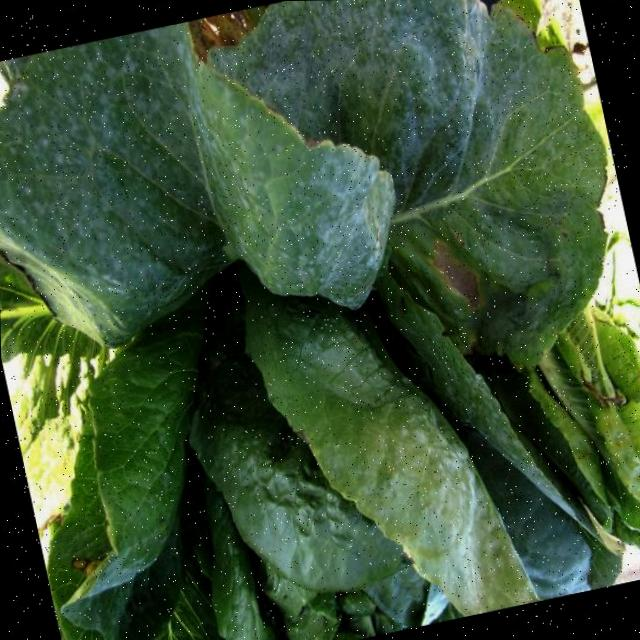Septoria_Blight: (6, 26, 327, 350), (294, 0, 547, 290)
